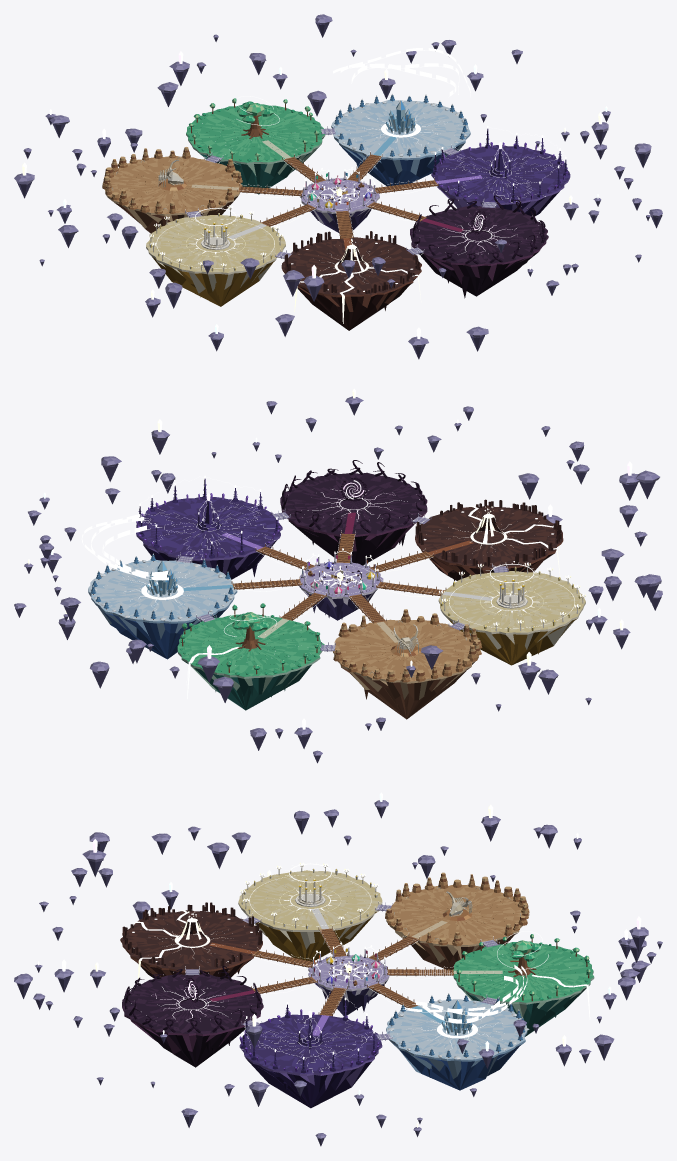
The model's file is wilds.glb.
3 views of the same model, one above another, from view 1: azimuth 30°, elevation 25°; view 2: azimuth 150°, elevation 25°; view 3: azimuth 270°, elevation 25° (orthographic). The views are drawn at different scales.
Visible parts, largest first — view 1: isle_sky, isle_havoc, isle_spectro, isle_glacio, isle_aero, isle_physical, isle_fusion, isle_electro, isle_bridges, isle_camp, glow_glacio, glow_bridges (+4 smaller); view 2: isle_sky, isle_physical, isle_havoc, isle_spectro, isle_aero, isle_glacio, isle_electro, isle_fusion, isle_bridges, isle_camp, glow_glacio, glow_bridges (+4 smaller); view 3: isle_sky, isle_electro, isle_havoc, isle_spectro, isle_physical, isle_glacio, isle_aero, isle_fusion, isle_bridges, isle_camp, glow_glacio, glow_bridges (+4 smaller).
Boxes of the visible parts, bbox=[...] form: isle_sky: bbox=[14, 14, 662, 359]; isle_havoc: bbox=[410, 195, 548, 298]; isle_spectro: bbox=[146, 207, 285, 306]; isle_glacio: bbox=[331, 94, 470, 186]; isle_aero: bbox=[186, 98, 325, 194]; isle_physical: bbox=[102, 147, 242, 233]; isle_fusion: bbox=[281, 231, 421, 330]; isle_electro: bbox=[431, 128, 570, 216]; isle_bridges: bbox=[185, 126, 497, 258]; isle_camp: bbox=[299, 175, 379, 232]; glow_glacio: bbox=[333, 48, 470, 145]; glow_bridges: bbox=[185, 125, 497, 261]; isle_sky: bbox=[14, 396, 662, 763]; isle_physical: bbox=[333, 609, 482, 719]; isle_havoc: bbox=[280, 460, 427, 565]; isle_spectro: bbox=[438, 565, 585, 665]; isle_aero: bbox=[177, 603, 324, 710]; isle_glacio: bbox=[88, 553, 237, 659]; isle_electro: bbox=[136, 478, 282, 579]; isle_fusion: bbox=[415, 499, 563, 580]; isle_bridges: bbox=[176, 509, 508, 651]; isle_camp: bbox=[298, 559, 383, 620]; glow_glacio: bbox=[81, 514, 224, 609]; glow_bridges: bbox=[176, 510, 508, 655]; isle_sky: bbox=[14, 800, 662, 1146]; isle_electro: bbox=[239, 1000, 382, 1108]; isle_havoc: bbox=[122, 965, 263, 1067]; isle_spectro: bbox=[238, 865, 382, 961]; isle_physical: bbox=[385, 872, 529, 971]; isle_glacio: bbox=[386, 993, 529, 1090]; isle_aero: bbox=[453, 934, 594, 1036]; isle_fusion: bbox=[120, 902, 262, 978]; isle_bridges: bbox=[185, 902, 499, 1040]; isle_camp: bbox=[308, 954, 389, 1015]; glow_glacio: bbox=[402, 965, 527, 1052]; glow_bridges: bbox=[185, 901, 499, 1043].
Bounding box in the file's own units: 276 × 61.39 × 276.
